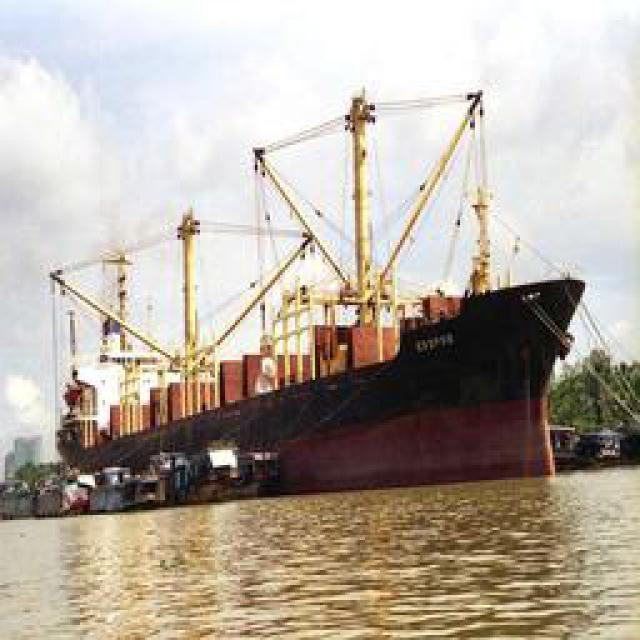Ship: (39, 71, 589, 526)
